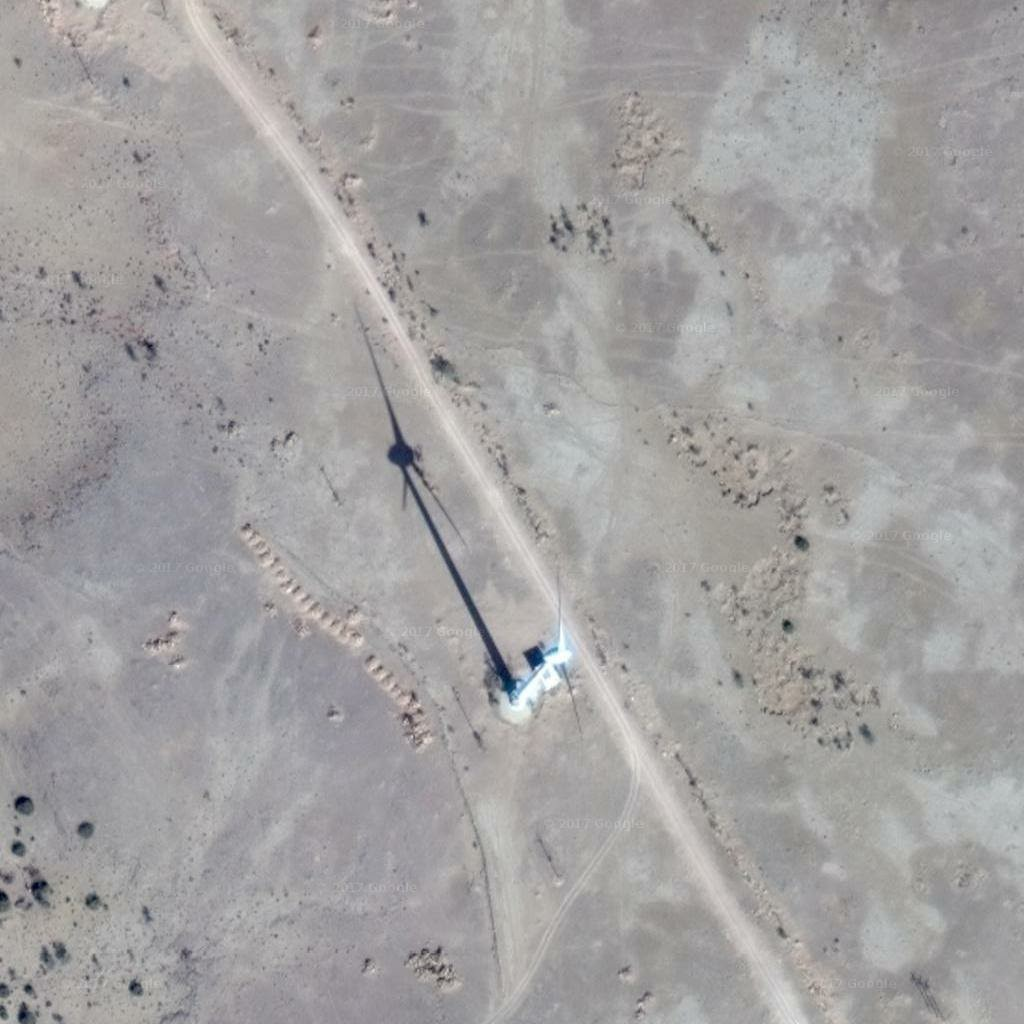Windmill: (347, 300, 521, 682)
